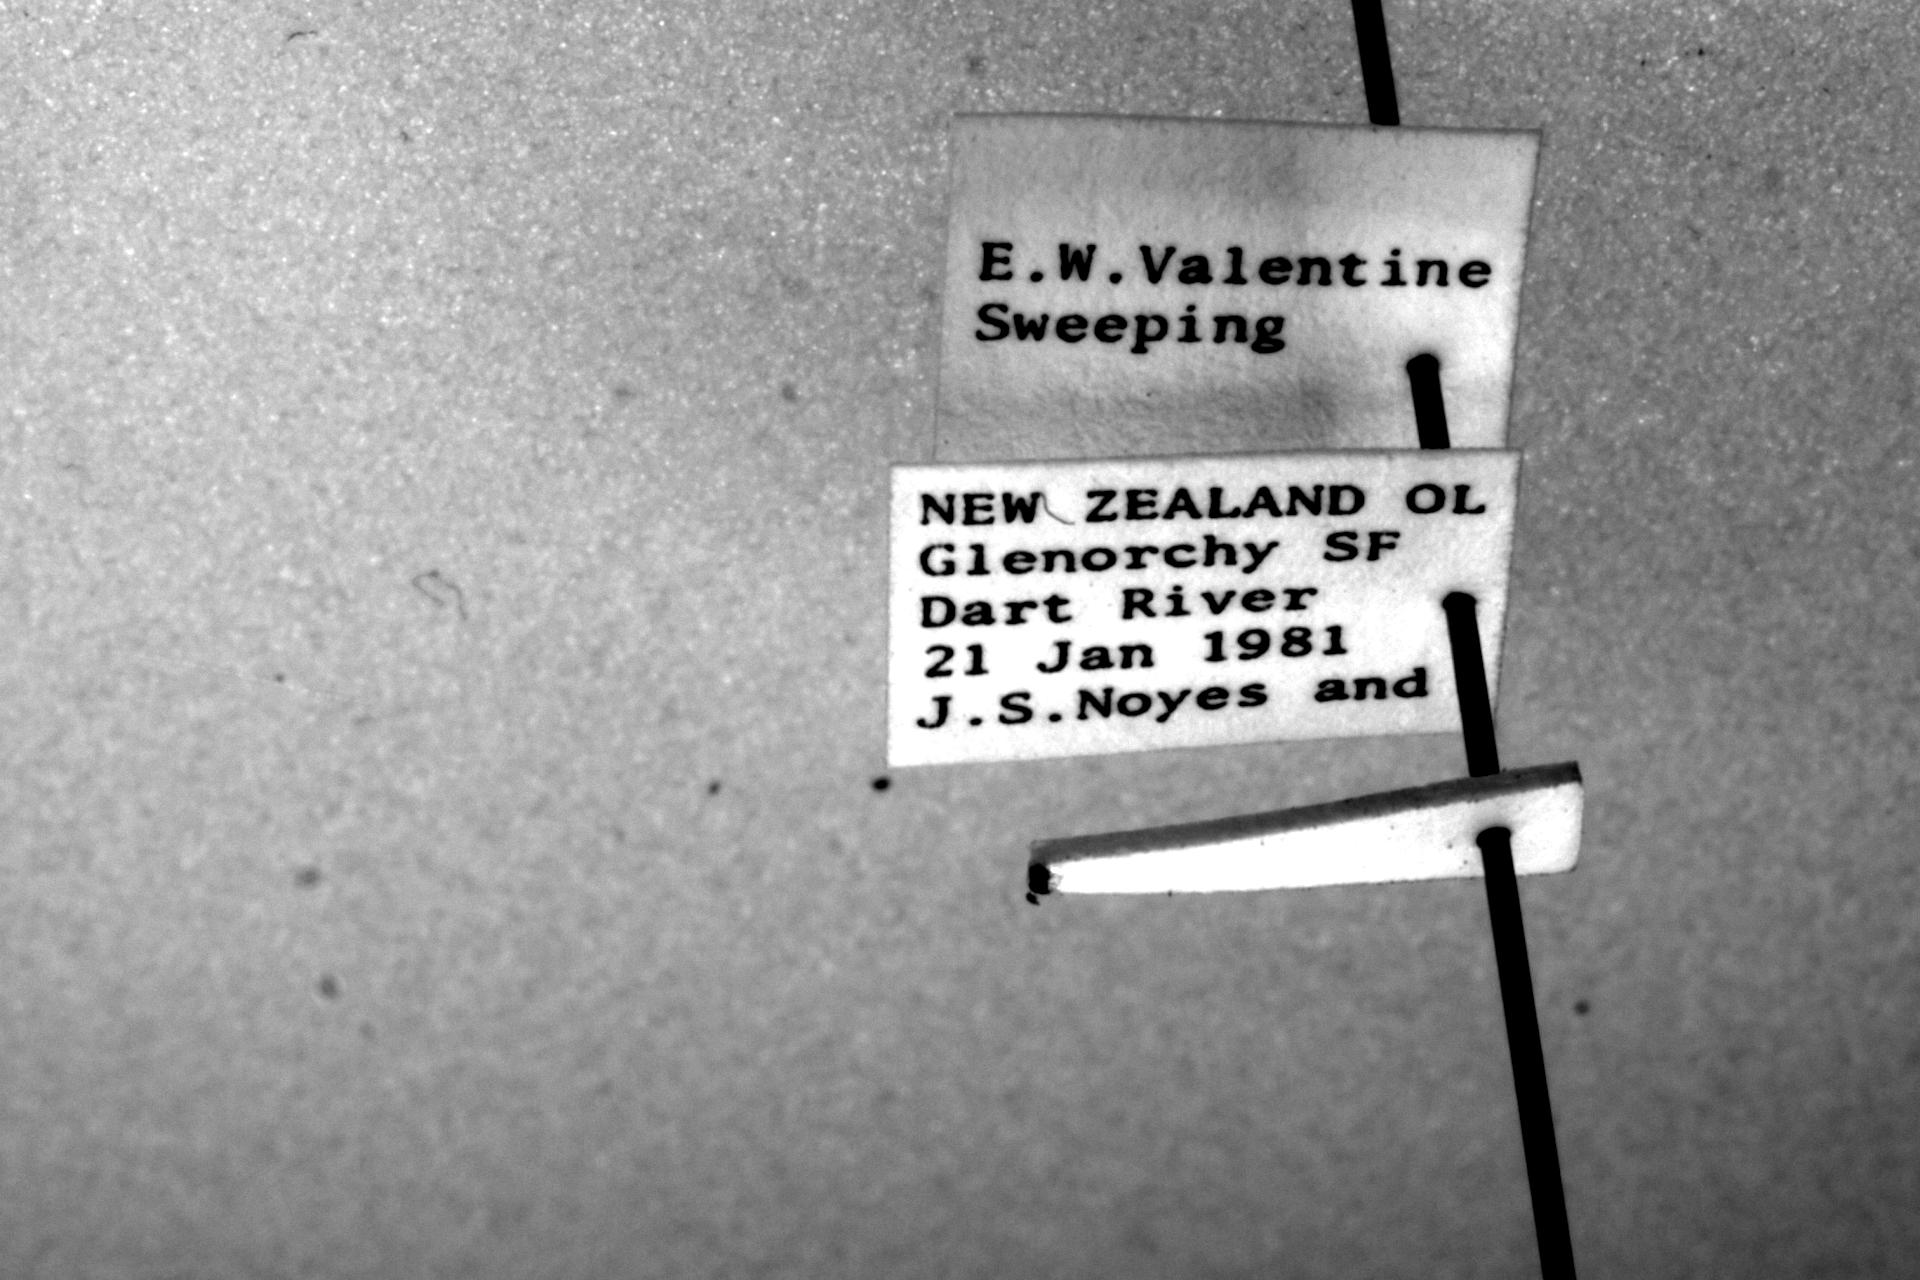typed_label: (938, 116, 1538, 461), (889, 450, 1519, 765)
